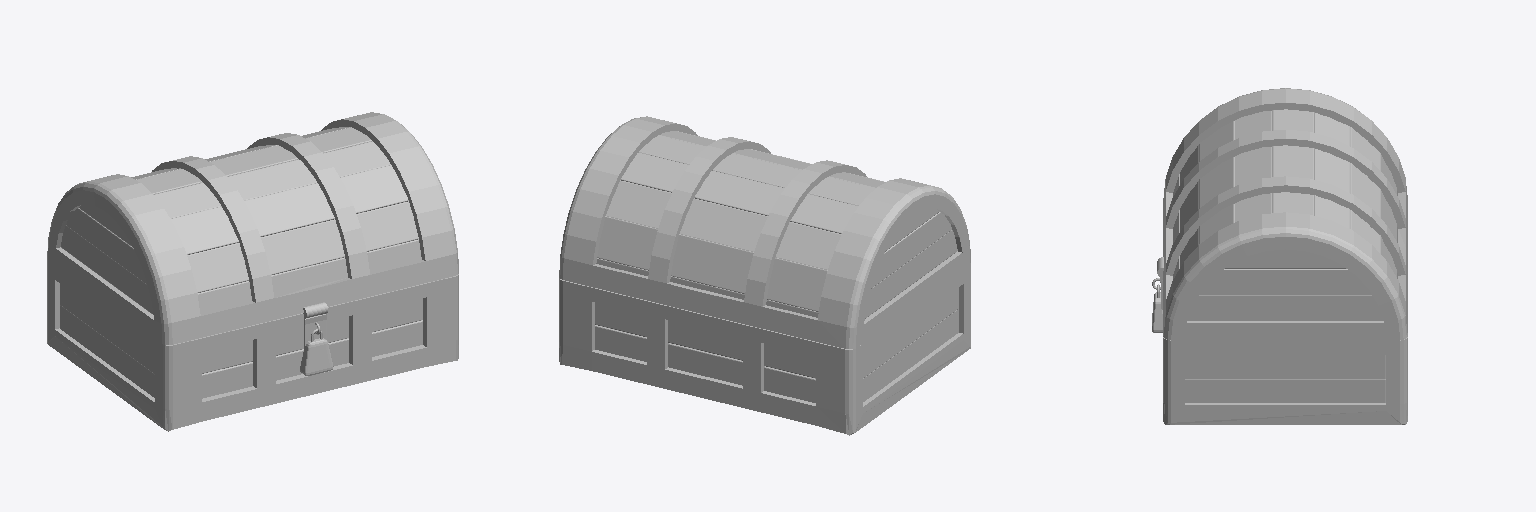
The model's file is BauExportado.obj.
3 renders of one model, left to right at view 1: azimuth 30°, elevation 25°; view 2: azimuth 150°, elevation 25°; view 3: azimuth 270°, elevation 25°, orthographic.
Visible parts, largest first — view 1: Bau_Torus.002; view 2: Bau_Torus.002; view 3: Bau_Torus.002.
Part boxes in pixels (x1,y1,x2,y2): Bau_Torus.002: (47, 112, 458, 431); Bau_Torus.002: (559, 116, 970, 435); Bau_Torus.002: (1152, 88, 1407, 424).
Size of the model in its own units: 2.98 by 1.89 by 2.23.